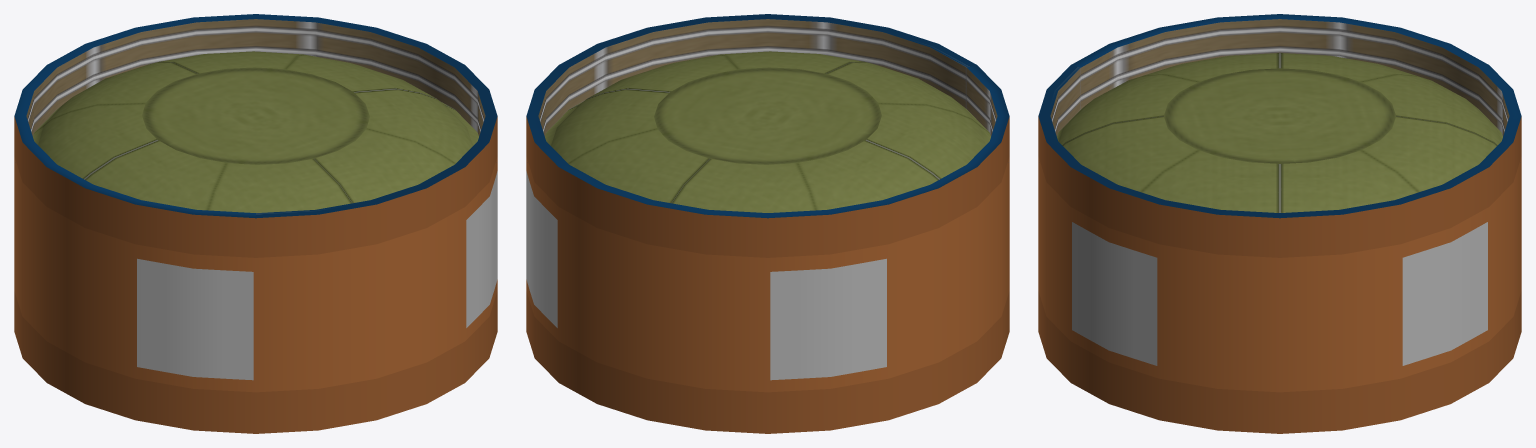
The model's file is FLM-3600.FBX.
3 renders of one model, left to right at view 1: azimuth 30°, elevation 25°; view 2: azimuth 150°, elevation 25°; view 3: azimuth 270°, elevation 25°, orthographic.
Visible parts, largest first — view 1: EndCap001, TankBody, TankSleeve001, TankSleeve002, decalPanel004, decalPanel001; view 2: EndCap001, TankBody, TankSleeve001, TankSleeve002, decalPanel003, decalPanel002; view 3: EndCap001, TankBody, TankSleeve001, TankSleeve002, decalPanel001, decalPanel002.
Part boxes in pixels (box(x1,y1,x2,y2)): EndCap001: box(33, 51, 478, 212); TankBody: box(14, 157, 497, 392); TankSleeve001: box(14, 14, 497, 257); TankSleeve002: box(14, 291, 497, 433); decalPanel004: box(137, 258, 253, 380); decalPanel001: box(466, 171, 497, 327); EndCap001: box(545, 51, 990, 212); TankBody: box(526, 157, 1009, 392); TankSleeve001: box(526, 14, 1009, 257); TankSleeve002: box(526, 291, 1009, 433); decalPanel003: box(770, 258, 886, 380); decalPanel002: box(526, 171, 557, 327); EndCap001: box(1057, 53, 1502, 212); TankBody: box(1038, 157, 1521, 392); TankSleeve001: box(1038, 14, 1521, 257); TankSleeve002: box(1038, 291, 1521, 433); decalPanel001: box(1072, 222, 1157, 365); decalPanel002: box(1402, 222, 1487, 365).
Size of what is drawn, in the model's own units: 3.75 by 3.75 by 1.85.
